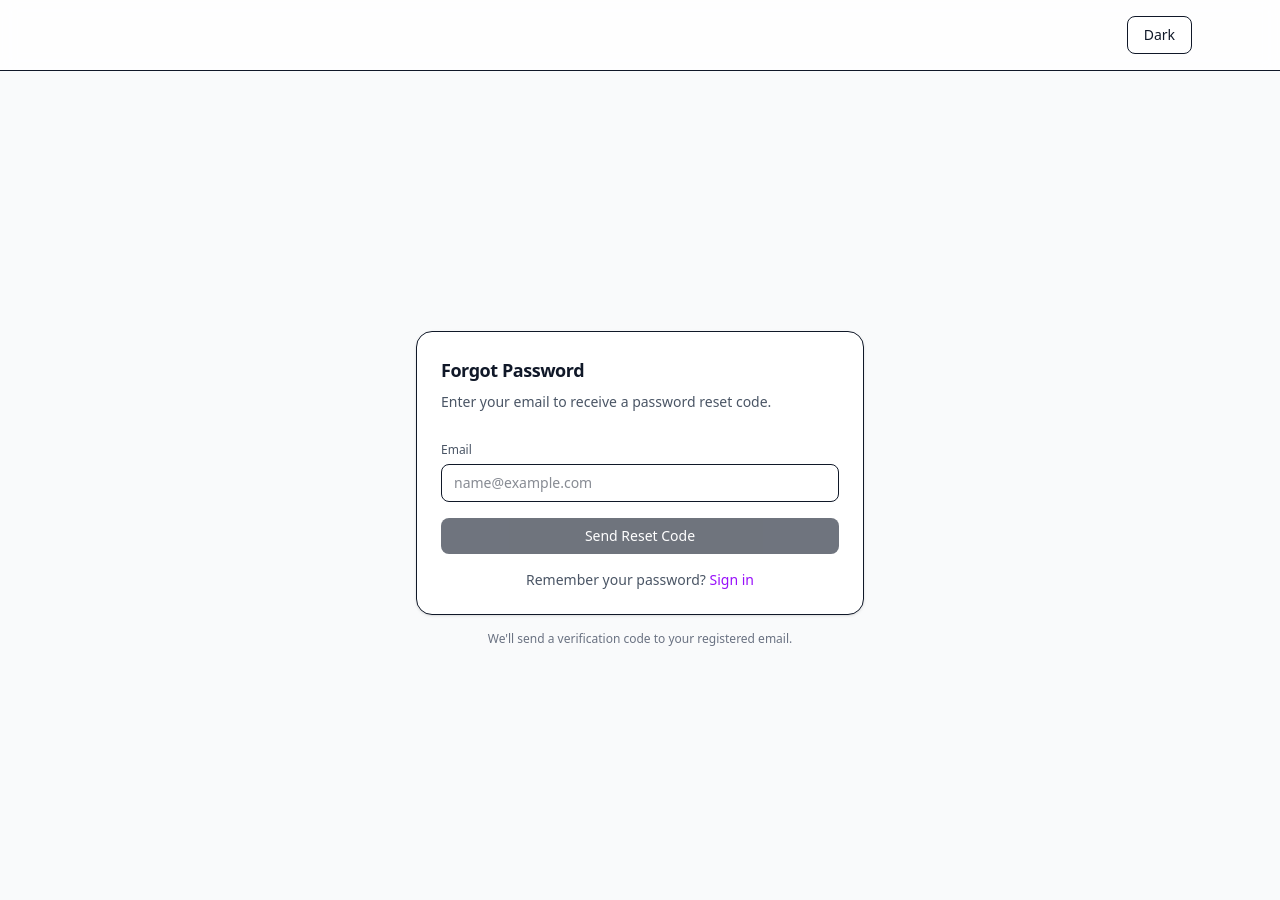
Test: ForgotPasswordPage › handles email submission API error
Type "unknown@example.com" into the field with placeholder "name@example.com" at (640,482), box [441, 464, 839, 502]
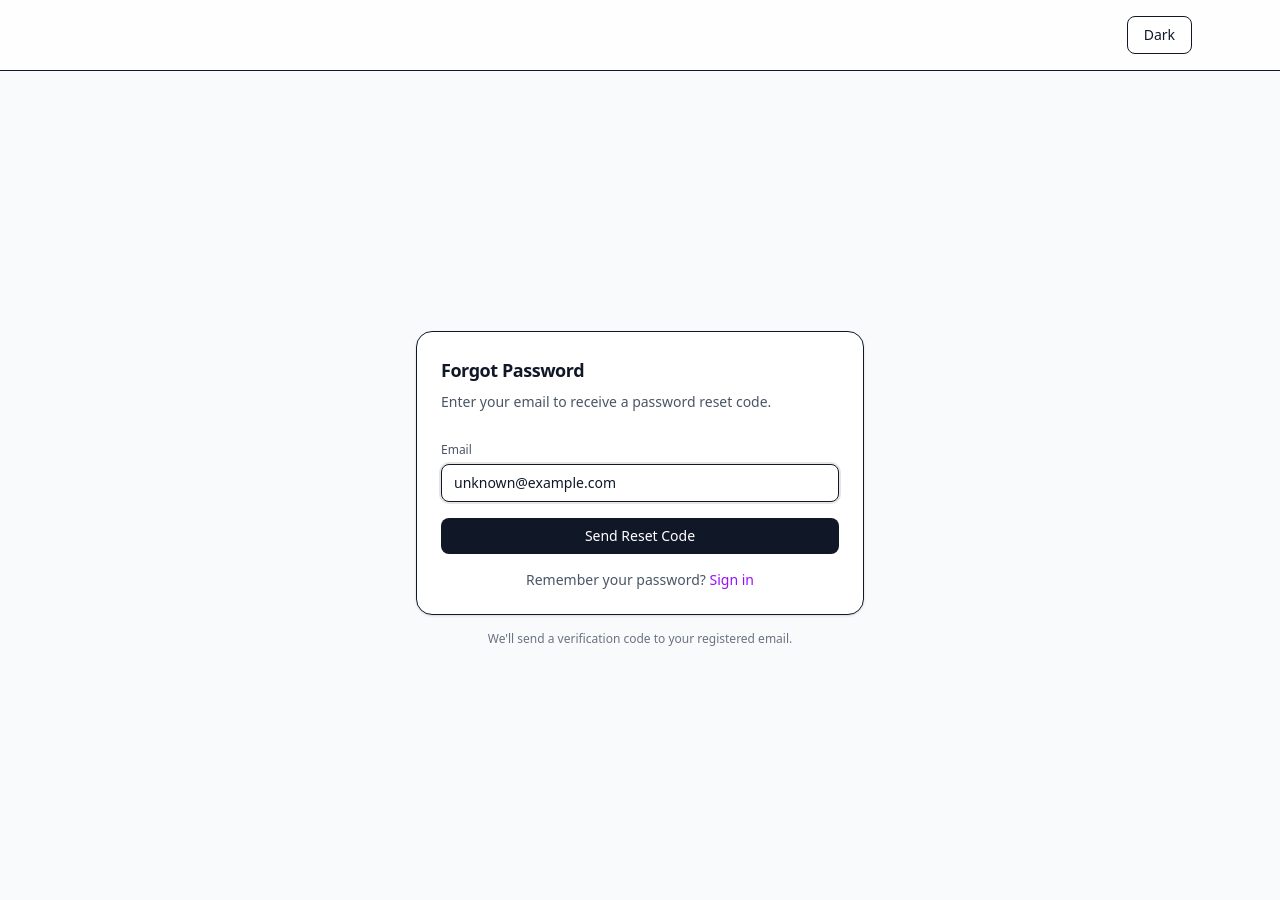
Click the button "Send Reset Code" at (640,536), box [441, 518, 839, 554]
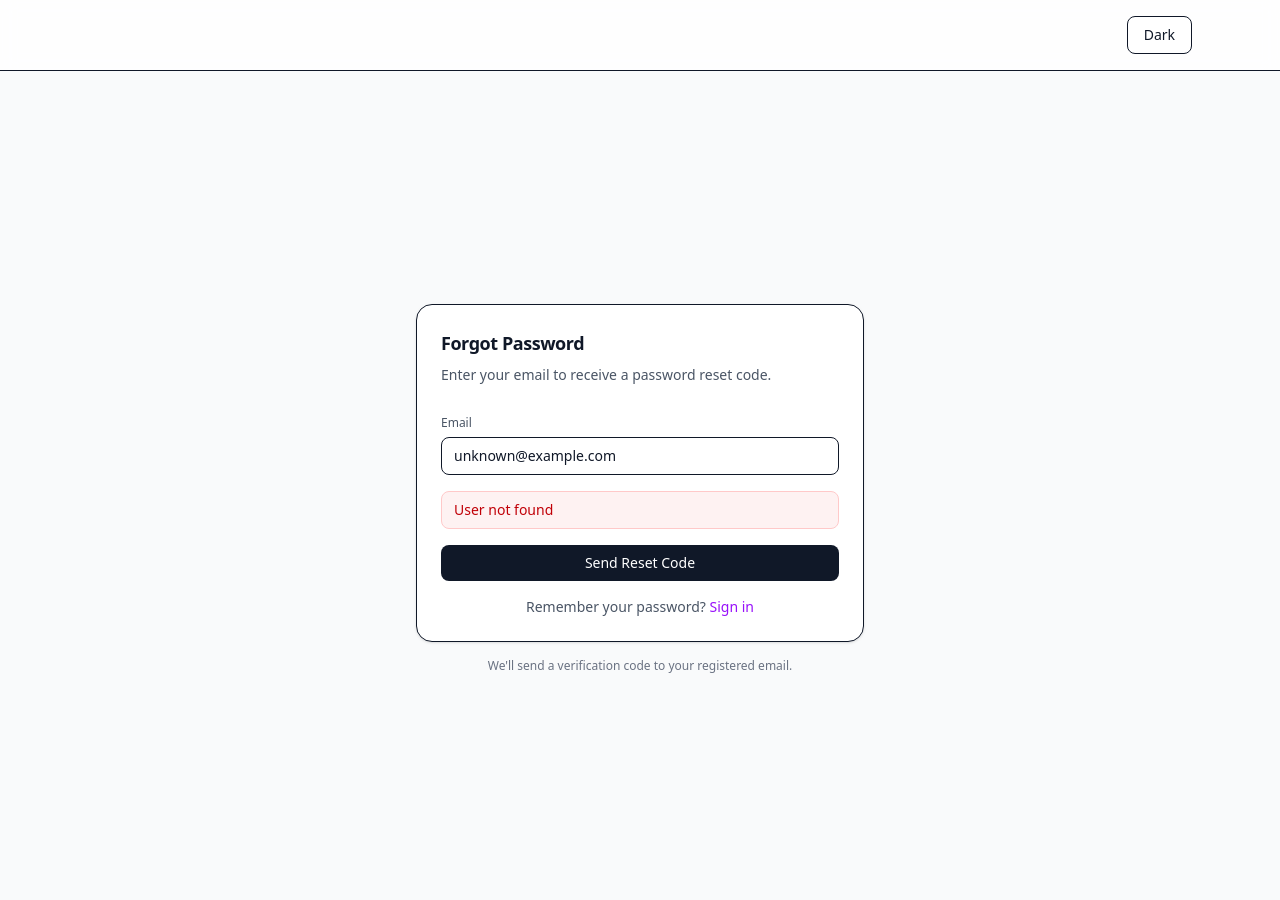
Expected: the text "User not found" is shown, [441, 490, 839, 528]
